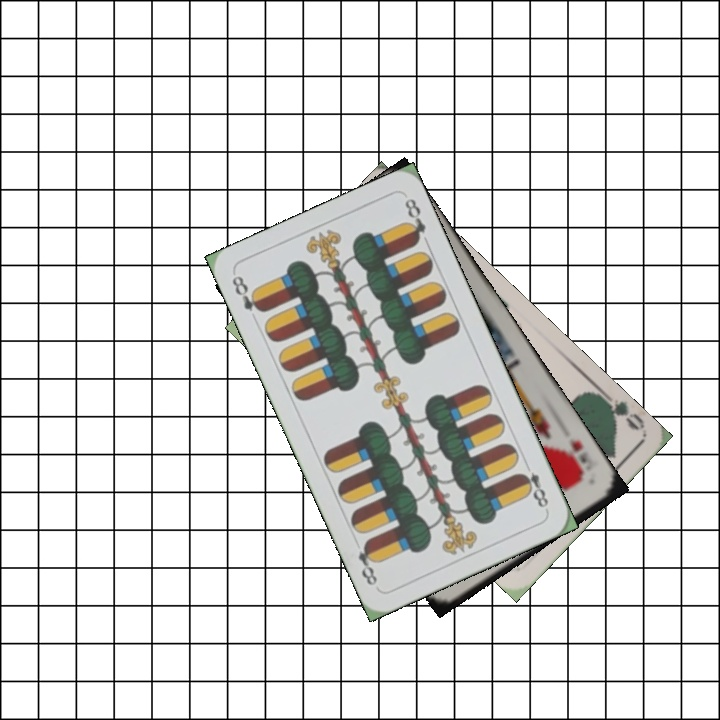E8: (515, 457, 551, 513), (228, 271, 267, 315)
GO: (595, 386, 647, 434)
HK: (559, 434, 589, 483)
